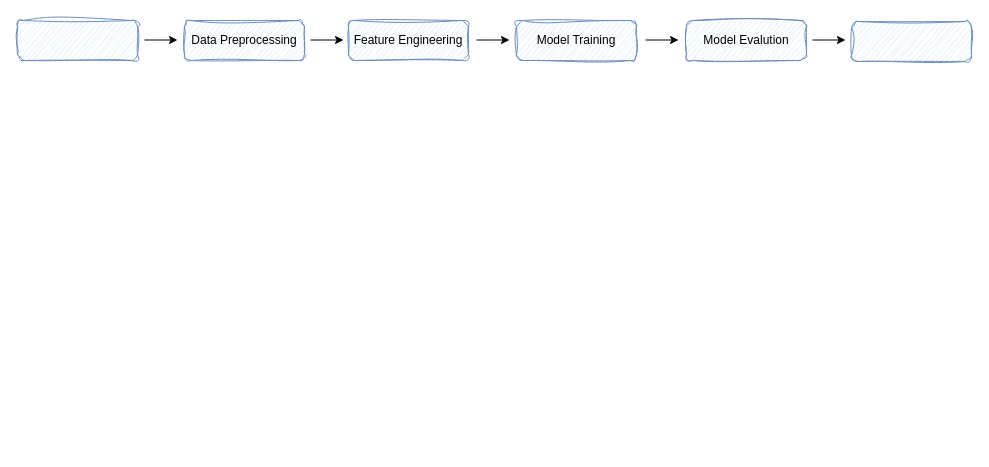
The diagram is 989 pixels wide and 467 high, and some of its shapes have lost their labels. Here are the shapes that lost their labels. From the top down, the box of each, then its label:
(16, 20, 138, 60): Data Collection
(850, 20, 972, 62): Deployment
